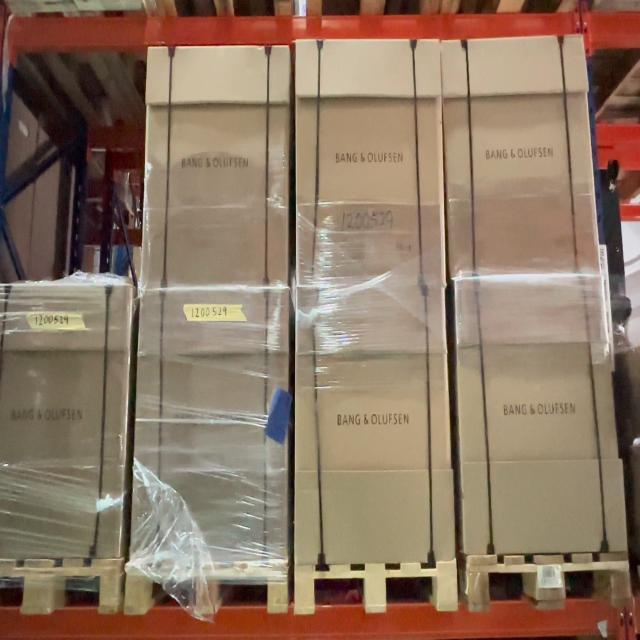box: (455, 275, 628, 557), (294, 282, 456, 566), (129, 286, 292, 568), (441, 36, 600, 277), (295, 40, 446, 288), (141, 45, 292, 290)
